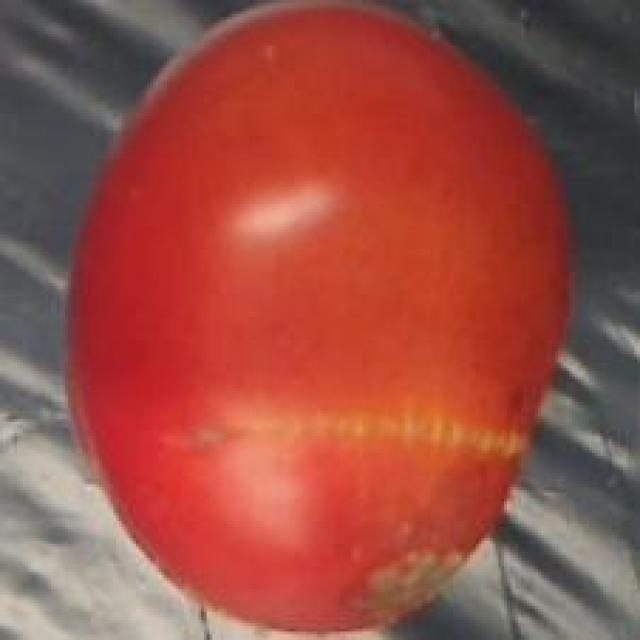overripe tomato: (59, 3, 584, 640)
